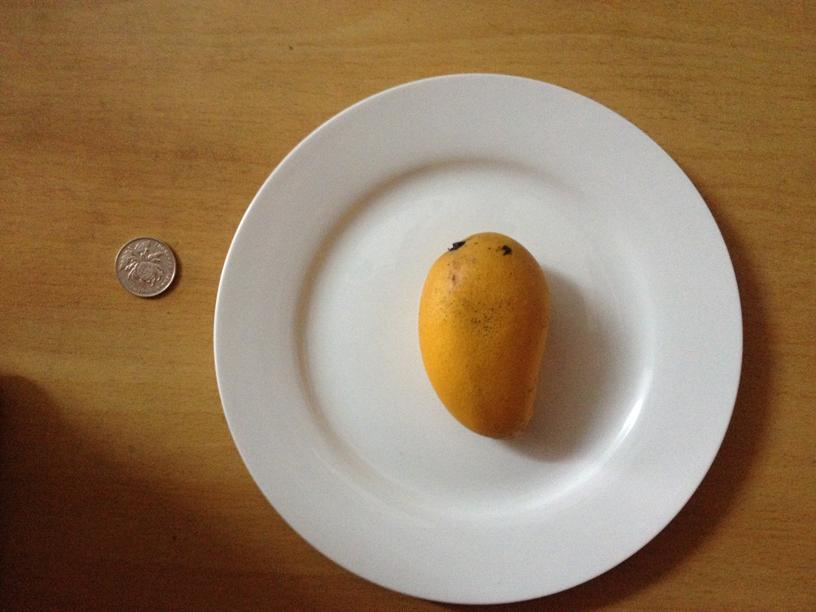coin: (117, 236, 178, 298)
mango: (423, 231, 547, 439)
